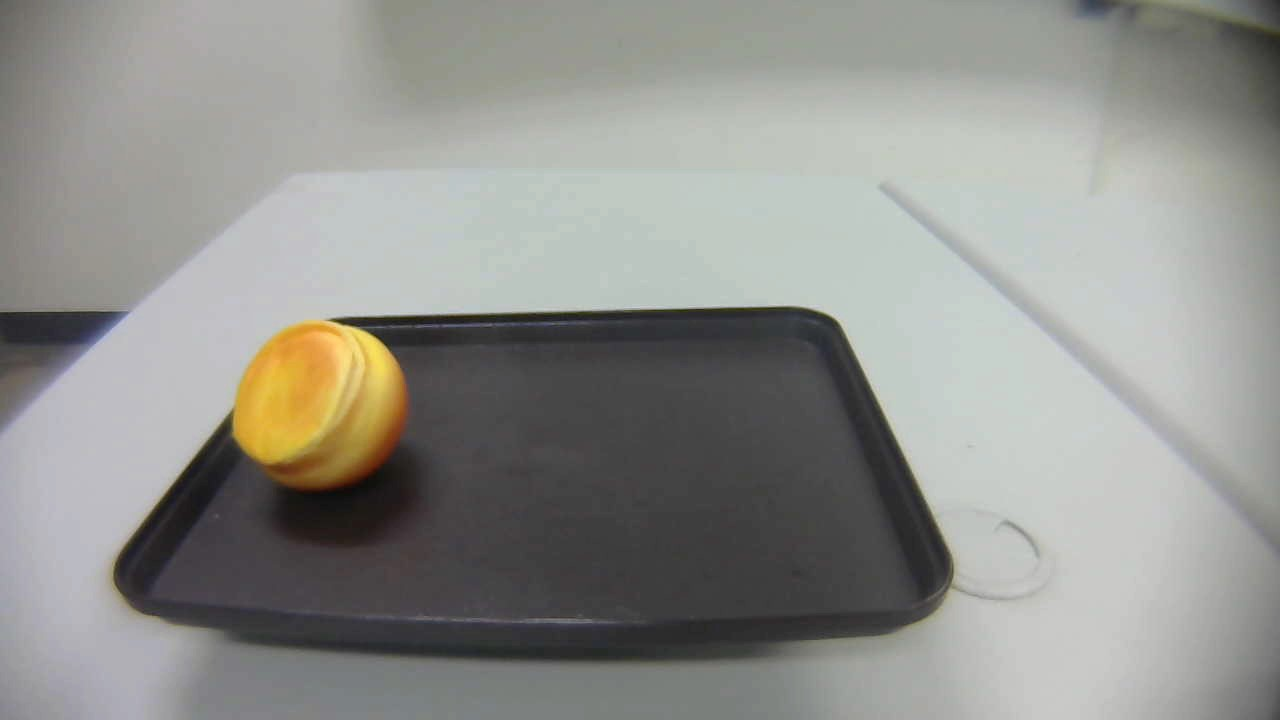bun: (233, 319, 409, 492)
